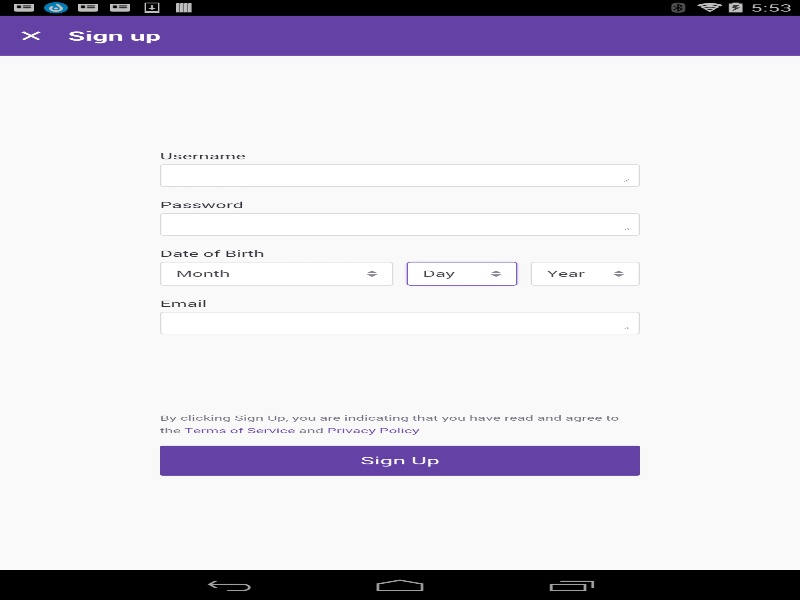Button: (160, 445, 640, 476), (160, 261, 393, 286), (406, 261, 517, 286), (530, 261, 641, 286), (6, 24, 54, 46)
Input: (160, 311, 640, 335), (160, 164, 640, 187), (160, 213, 640, 236)
